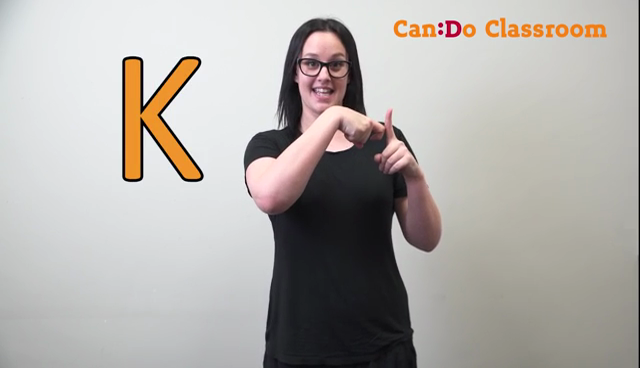K: (319, 88, 424, 198)
